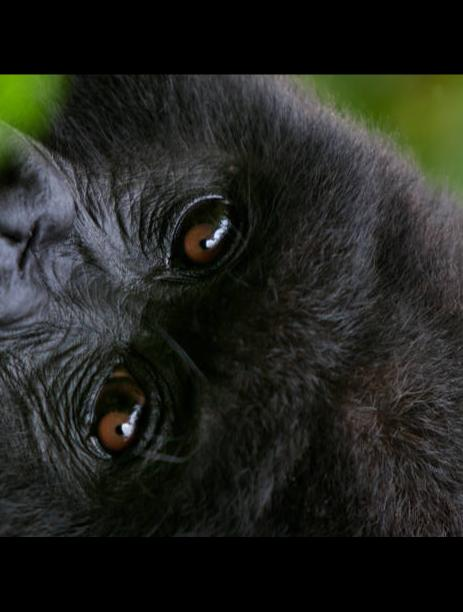goriile_montagne: (0, 74, 463, 537)
